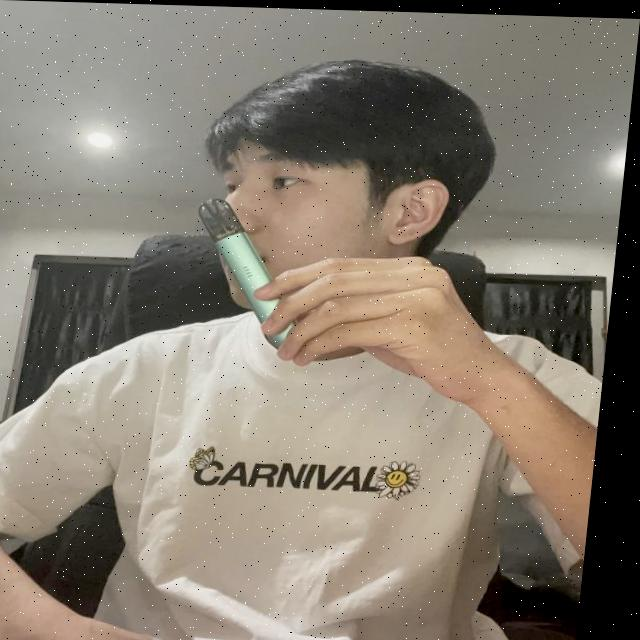vape: (190, 192, 313, 347)
